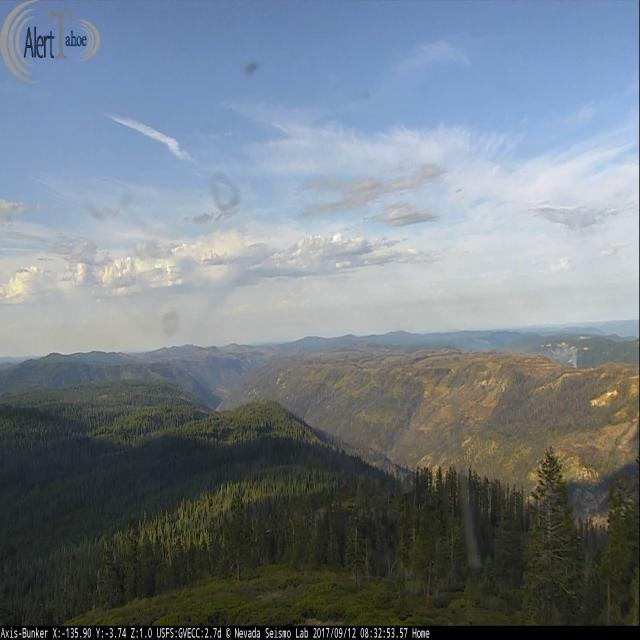smoke: (546, 346, 580, 369)
